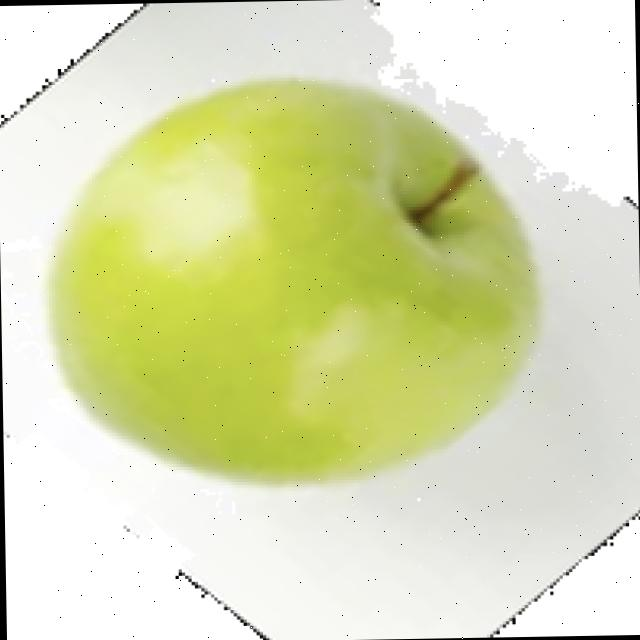apple: (41, 21, 579, 504)
